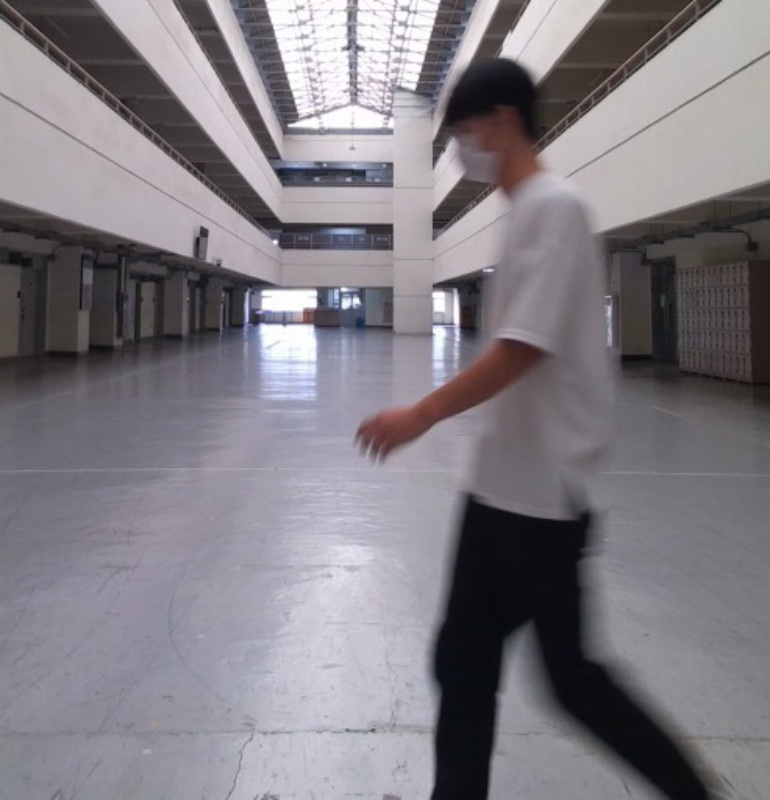person: (351, 57, 732, 800)
